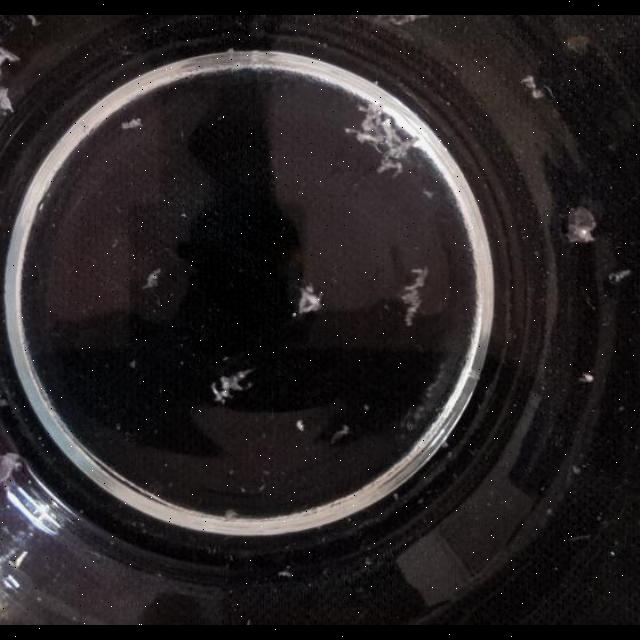Fibre: (346, 100, 420, 176), (396, 266, 430, 328), (210, 367, 258, 407), (564, 205, 596, 242), (295, 284, 325, 316), (518, 74, 546, 100), (142, 268, 162, 290), (330, 424, 350, 444), (0, 88, 14, 114), (610, 268, 632, 284), (120, 118, 142, 130), (224, 508, 238, 518), (580, 372, 594, 382), (423, 190, 435, 200), (571, 465, 581, 475)
microbeads: (296, 420, 306, 432), (129, 359, 137, 368), (257, 483, 265, 492), (365, 558, 373, 566), (39, 203, 45, 213), (180, 212, 187, 220), (364, 403, 371, 411), (228, 469, 236, 476), (392, 492, 398, 501), (610, 551, 616, 557)
